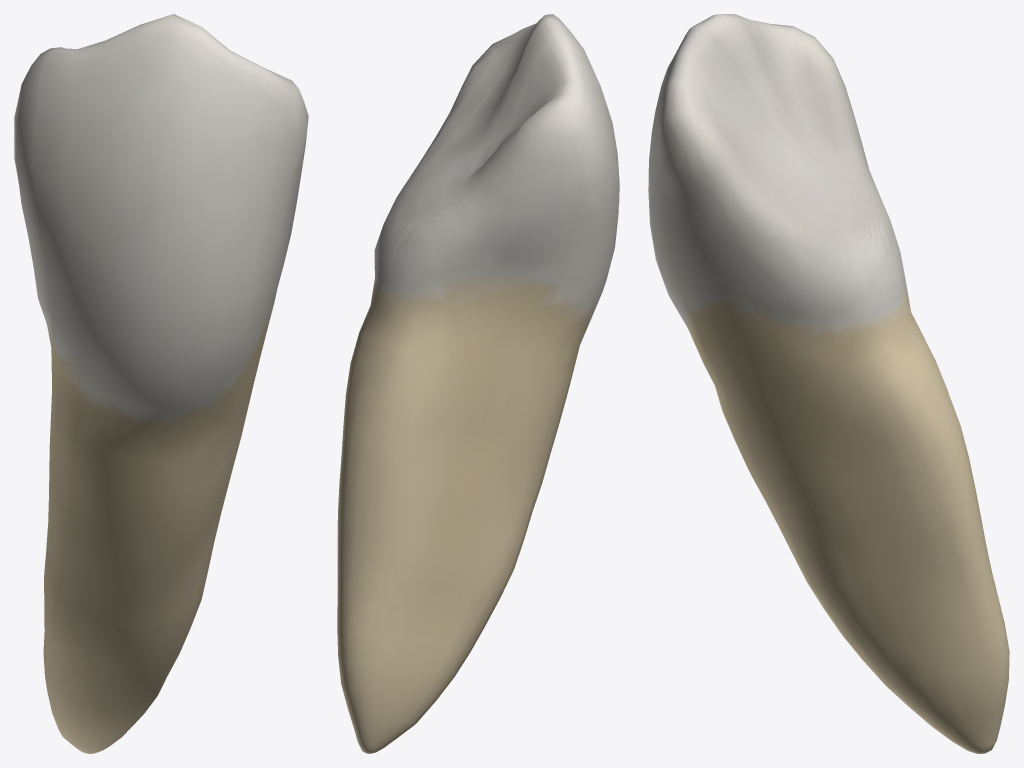
The model's file is tooth-43.glb.
The picture shows the model from 3 angles, left to right: view 1: azimuth 30°, elevation 25°; view 2: azimuth 150°, elevation 25°; view 3: azimuth 270°, elevation 25°; orthographic projection. The views are drawn at different scales.
Visible parts, largest first — view 1: ZBrushPolyMesh3D5_Mandible_ll3_0; view 2: ZBrushPolyMesh3D5_Mandible_ll3_0; view 3: ZBrushPolyMesh3D5_Mandible_ll3_0.
Part boxes in pixels (<box>): ZBrushPolyMesh3D5_Mandible_ll3_0: <box>14,14,308,753</box>; ZBrushPolyMesh3D5_Mandible_ll3_0: <box>337,14,619,753</box>; ZBrushPolyMesh3D5_Mandible_ll3_0: <box>648,14,1009,753</box>.
Size of the model in its own units: 0.2462 by 0.7809 by 0.3608.
Materials: 1 (1 with a texture image).
